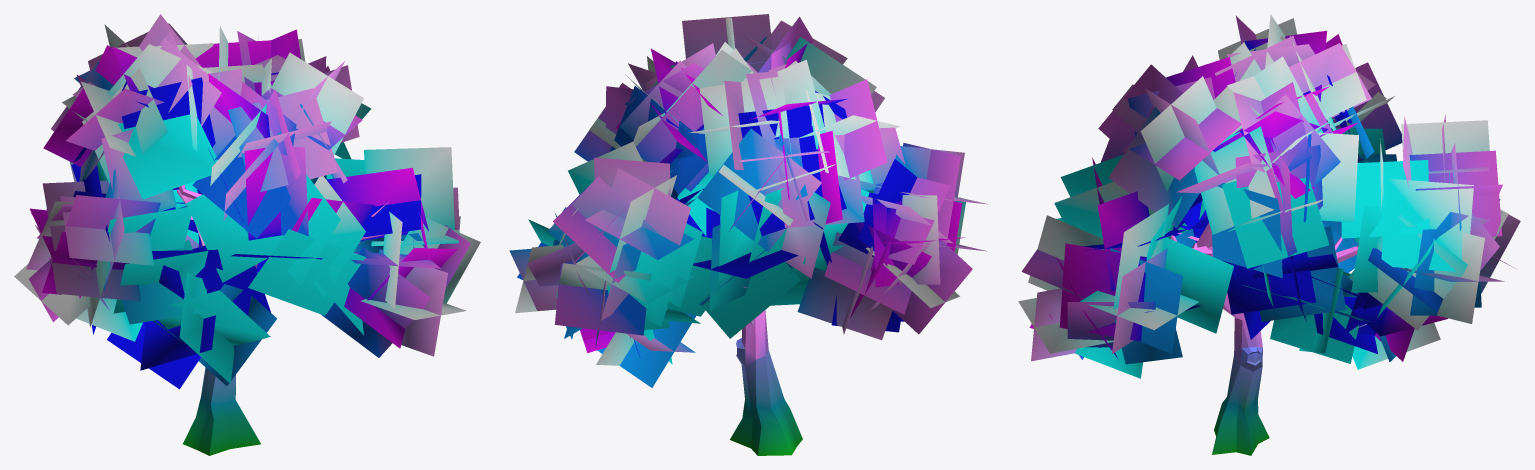
The model's file is PT_Fruit_Tree_01_green_LOD2.fbx.
3 renders of one model, left to right at view 1: azimuth 30°, elevation 25°; view 2: azimuth 150°, elevation 25°; view 3: azimuth 270°, elevation 25°, orthographic. The views are drawn at different scales.
Parts seen in each view (by area): view 1: PT_Fruit_Tree_01_green_LOD2; view 2: PT_Fruit_Tree_01_green_LOD2; view 3: PT_Fruit_Tree_01_green_LOD2.
Boxes of the visible parts, left/top/right/bottom form: PT_Fruit_Tree_01_green_LOD2: left=14, top=14, right=480, bottom=455; PT_Fruit_Tree_01_green_LOD2: left=509, top=14, right=987, bottom=455; PT_Fruit_Tree_01_green_LOD2: left=1018, top=14, right=1520, bottom=455.
Size of the model in its own units: 712 by 687 by 782.
